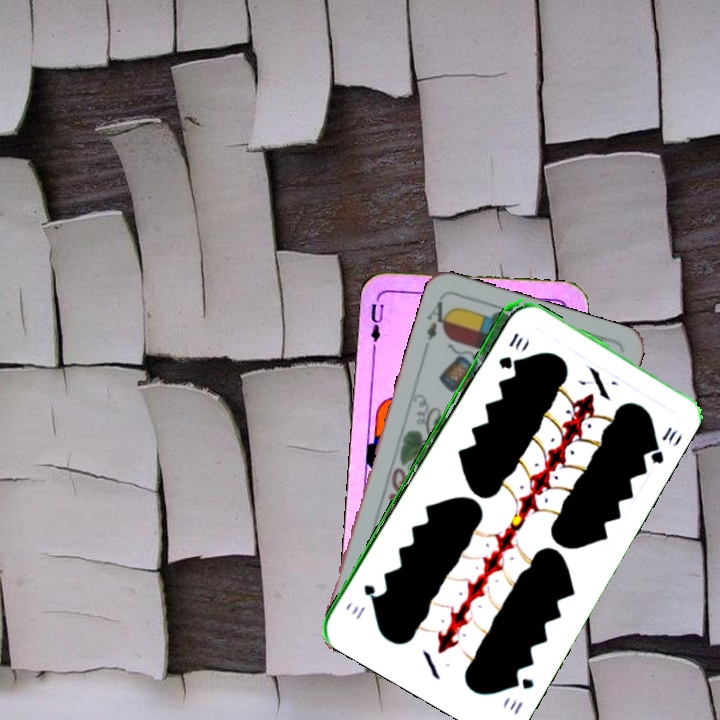EA: (420, 294, 454, 352)
EU: (366, 292, 393, 351)
G10: (506, 672, 536, 717), (494, 328, 522, 371)
